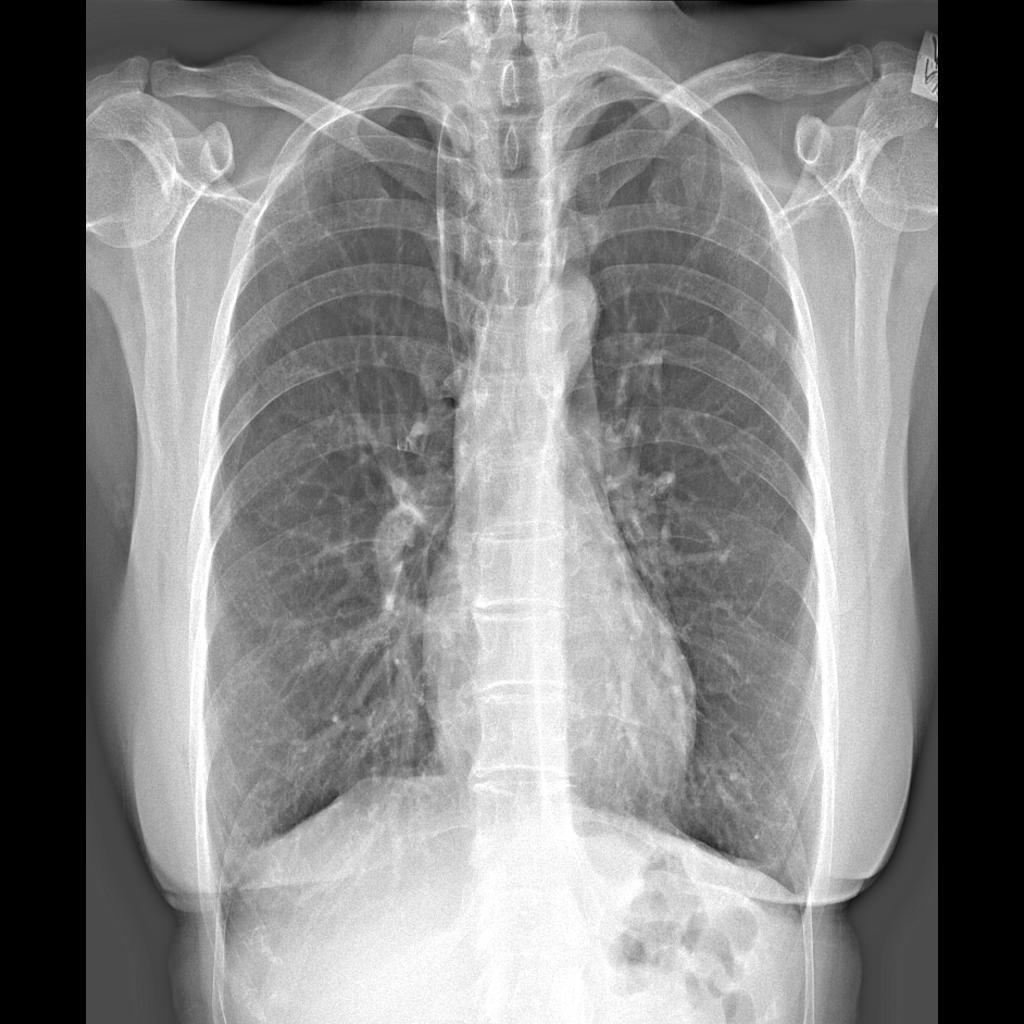Nodule: (750, 314, 789, 365)
